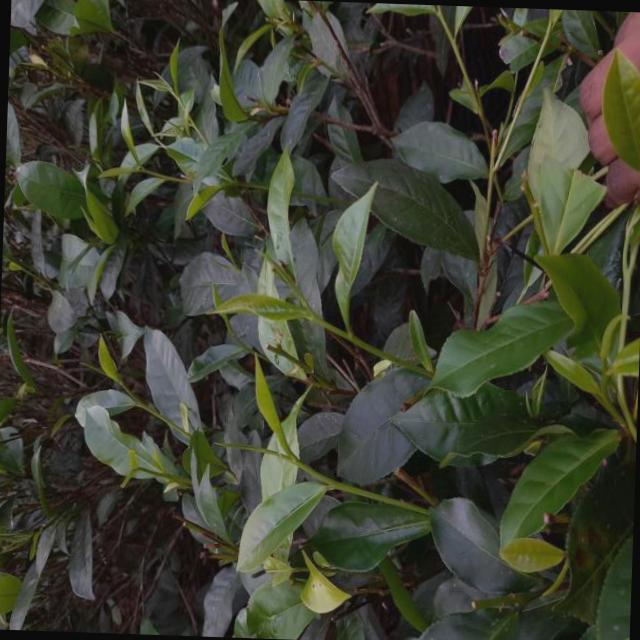Stem: (311, 313, 324, 325), (293, 456, 303, 466)
